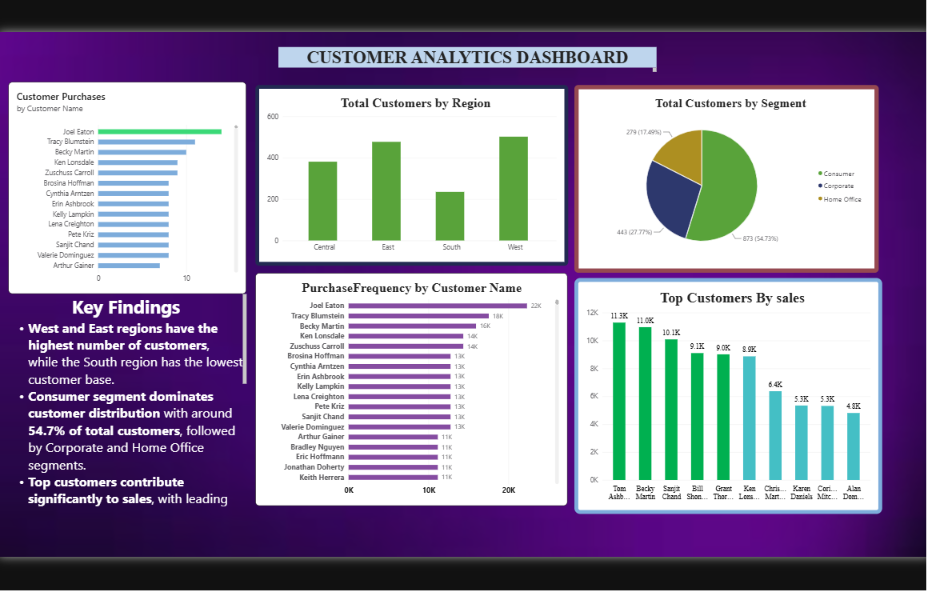

The page's visual inventory and layout, read from the dashboard file:
{"tool":"powerbi","page":{"name":"Customer Analytics","canvas":[1920,1080],"ordinal":3},"visuals":[{"type":"pieChart","fields":{"Y":["Data.Total Customers"],"Category":["Data.Segment"]},"box":[1186,110,626,386],"z":0},{"type":"columnChart","fields":{"Category":["Data.Region Hierarchy.Region","Data.Region Hierarchy.State","Data.Region Hierarchy.City"],"Y":["Data.Total Customers"]},"box":[528,110,644,372],"z":1000},{"type":"columnChart","title":"Top Customers By sales","fields":{"Category":["Data.Customer Name"],"Y":["Data.Total sales"]},"box":[1185.6,506.3,634,485.8],"z":2000},{"type":"textbox","title":"CUSTOMER ANALYTICS DASHBOARD","box":[576.3,30.9,778,51.5],"z":3000},{"type":"clusteredBarChart","fields":{"Category":["Data.Customer Name"],"Y":["Data.Customer Purchases"]},"box":[20.6,102.9,489.9,436.4],"z":4000},{"type":"clusteredBarChart","fields":{"Category":["Data.Customer Name"],"Y":["Sum(Data.PurchaseFrequency)"]},"box":[529,496.1,642.2,479.6],"z":5000},{"type":"textbox","box":[21,539,490,437],"z":6000}]}

Visuals, with their boxes in screenshot pixels (x1, y1, x2, y2):
pieChart - Data.Total Customers x Data.Segment: Rect(572, 86, 870, 270)
columnChart - Data.Region Hierarchy.Region x Data.Region Hierarchy.State: Rect(259, 86, 565, 263)
"Top Customers By sales" columnChart: Rect(572, 275, 874, 506)
"CUSTOMER ANALYTICS DASHBOARD" textbox: Rect(282, 49, 652, 73)
clusteredBarChart - Data.Customer Name x Data.Customer Purchases: Rect(17, 83, 250, 291)
clusteredBarChart - Data.Customer Name x Sum(Data.PurchaseFrequency): Rect(259, 270, 565, 498)
textbox: Rect(17, 290, 251, 499)
